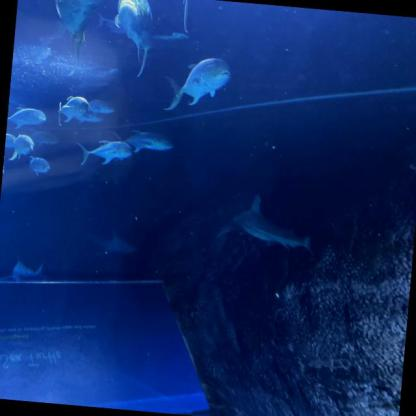fish: (161, 53, 232, 116), (109, 0, 156, 79), (50, 0, 106, 58), (106, 127, 174, 156), (74, 137, 132, 169), (56, 94, 90, 128), (6, 106, 47, 131), (8, 133, 34, 161), (27, 128, 60, 148), (27, 156, 52, 178), (73, 110, 103, 126), (88, 98, 117, 114)
shark: (214, 191, 320, 256), (87, 226, 139, 260), (0, 254, 49, 286)
